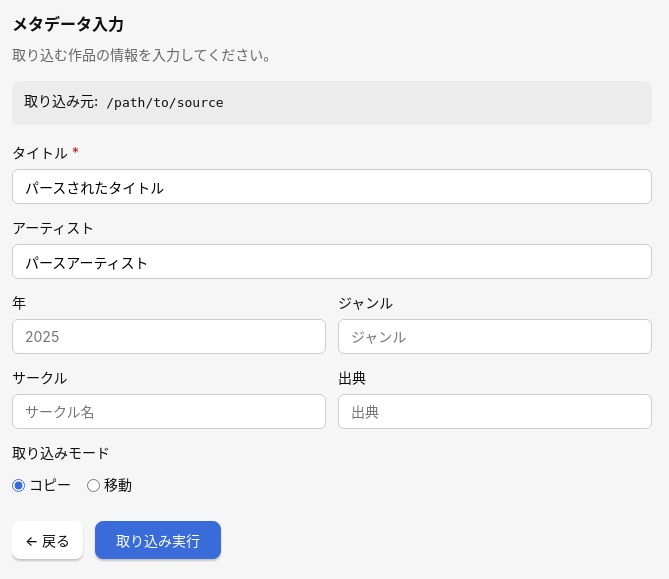
Test: ImportView コンポーネント › initialSourcePath でメタデータステップ › タイトルが空の場合は実行ボタンが無効になる
Step 1. Clear the field showing "パースされたタイトル" → (332, 186), box [12,169,652,204]
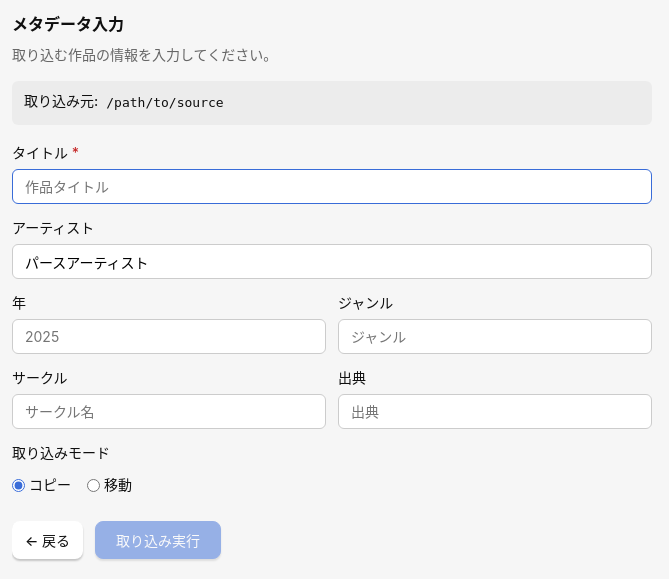
Expected: the button "取り込み実行" is disabled, [95,521,221,559]
